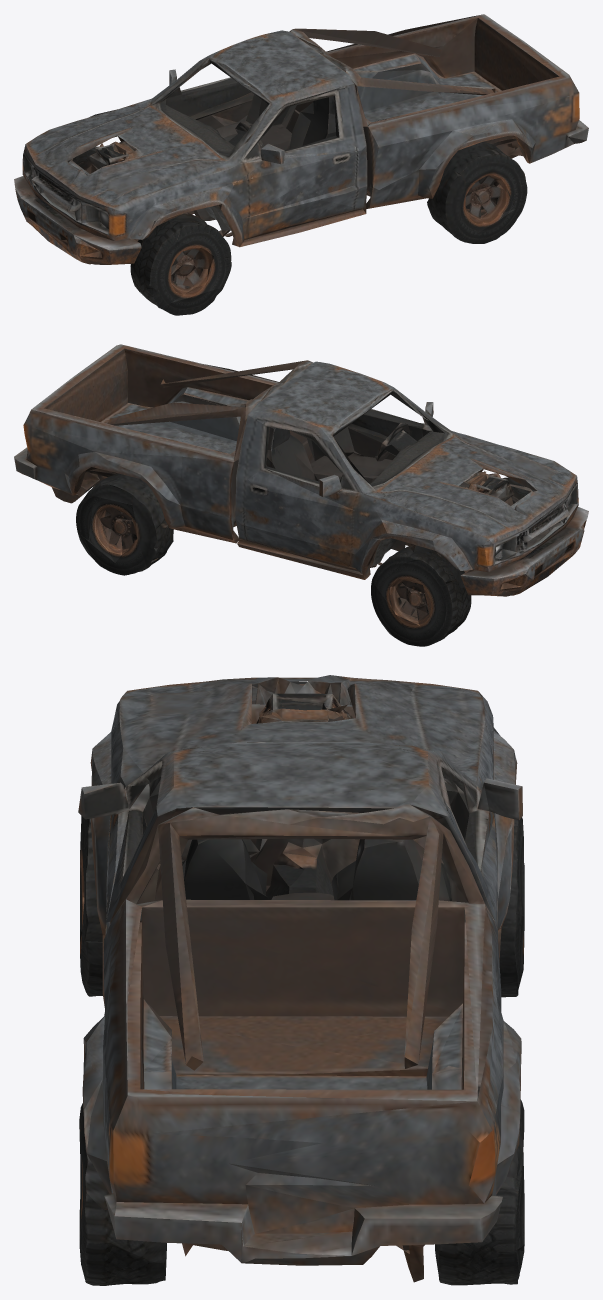
Rendered from ridgeback-carcass-high.glb.
3 views of the same model, one above another, from view 1: azimuth 30°, elevation 25°; view 2: azimuth 150°, elevation 25°; view 3: azimuth 270°, elevation 25° (orthographic). The views are drawn at different scales.
Size of the model in its own units: 1.9 by 0.6548 by 0.7334.
Materials: 1 (1 with a texture image).
